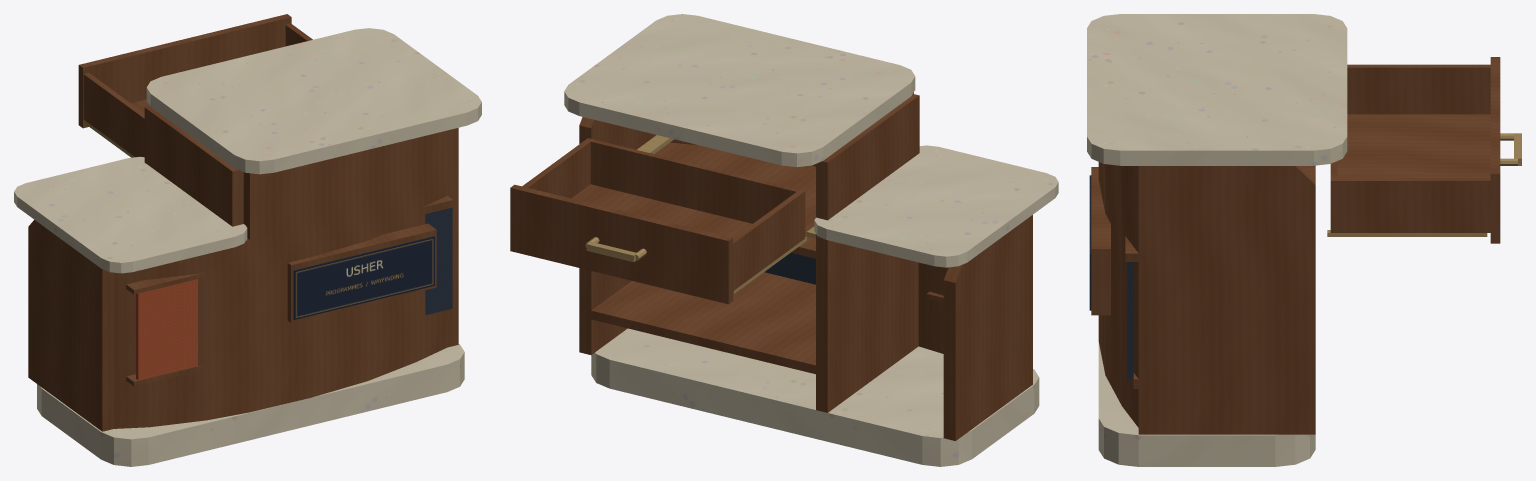
Rendered from AST-CUL-002_access.glb.
3 renders of one model, left to right at view 1: azimuth 30°, elevation 25°; view 2: azimuth 150°, elevation 25°; view 3: azimuth 270°, elevation 25°, orthographic. The views are drawn at different scales.
Visible parts, largest first — view 1: AST-CUL-002_access__AST-CUL-002__warm_walnut, AST-CUL-002_access__AST-CUL-002__warm_stone, AST-CUL-002_access__USHER_DRAWER__warm_walnut, AST-CUL-002_access__AST-CUL-002__usher_original, AST-CUL-002_access__AST-CUL-002__auditorium_amber_velvet, AST-CUL-002_access__AST-CUL-002__auditorium_navy_fibre; view 2: AST-CUL-002_access__AST-CUL-002__warm_stone, AST-CUL-002_access__AST-CUL-002__warm_walnut, AST-CUL-002_access__USHER_DRAWER__warm_walnut, AST-CUL-002_access__AST-CUL-002__auditorium_navy_fibre, AST-CUL-002_access__USHER_DRAWER__champagne_metal; view 3: AST-CUL-002_access__AST-CUL-002__warm_walnut, AST-CUL-002_access__AST-CUL-002__warm_stone, AST-CUL-002_access__USHER_DRAWER__warm_walnut, AST-CUL-002_access__USHER_DRAWER__champagne_metal, AST-CUL-002_access__AST-CUL-002__auditorium_navy_fibre.
Part boxes in pixels (left/top/right/bottom): AST-CUL-002_access__AST-CUL-002__warm_walnut: left=28, top=106, right=458, bottom=431; AST-CUL-002_access__AST-CUL-002__warm_stone: left=14, top=28, right=481, bottom=466; AST-CUL-002_access__USHER_DRAWER__warm_walnut: left=78, top=14, right=312, bottom=157; AST-CUL-002_access__AST-CUL-002__usher_original: left=293, top=236, right=434, bottom=319; AST-CUL-002_access__AST-CUL-002__auditorium_amber_velvet: left=136, top=279, right=197, bottom=380; AST-CUL-002_access__AST-CUL-002__auditorium_navy_fibre: left=425, top=207, right=452, bottom=315; AST-CUL-002_access__AST-CUL-002__warm_stone: left=564, top=14, right=1058, bottom=466; AST-CUL-002_access__AST-CUL-002__warm_walnut: left=579, top=92, right=1032, bottom=440; AST-CUL-002_access__USHER_DRAWER__warm_walnut: left=510, top=138, right=805, bottom=304; AST-CUL-002_access__AST-CUL-002__auditorium_navy_fibre: left=764, top=252, right=815, bottom=284; AST-CUL-002_access__USHER_DRAWER__champagne_metal: left=585, top=237, right=806, bottom=293; AST-CUL-002_access__AST-CUL-002__warm_walnut: left=1091, top=162, right=1315, bottom=434; AST-CUL-002_access__AST-CUL-002__warm_stone: left=1087, top=14, right=1347, bottom=466; AST-CUL-002_access__USHER_DRAWER__warm_walnut: left=1330, top=57, right=1500, bottom=243; AST-CUL-002_access__USHER_DRAWER__champagne_metal: left=1327, top=133, right=1521, bottom=236; AST-CUL-002_access__AST-CUL-002__auditorium_navy_fibre: left=1127, top=262, right=1133, bottom=379.
Size of the model in its own units: 1.51 by 1.07 by 1.3.
6 materials, 6 textured.
